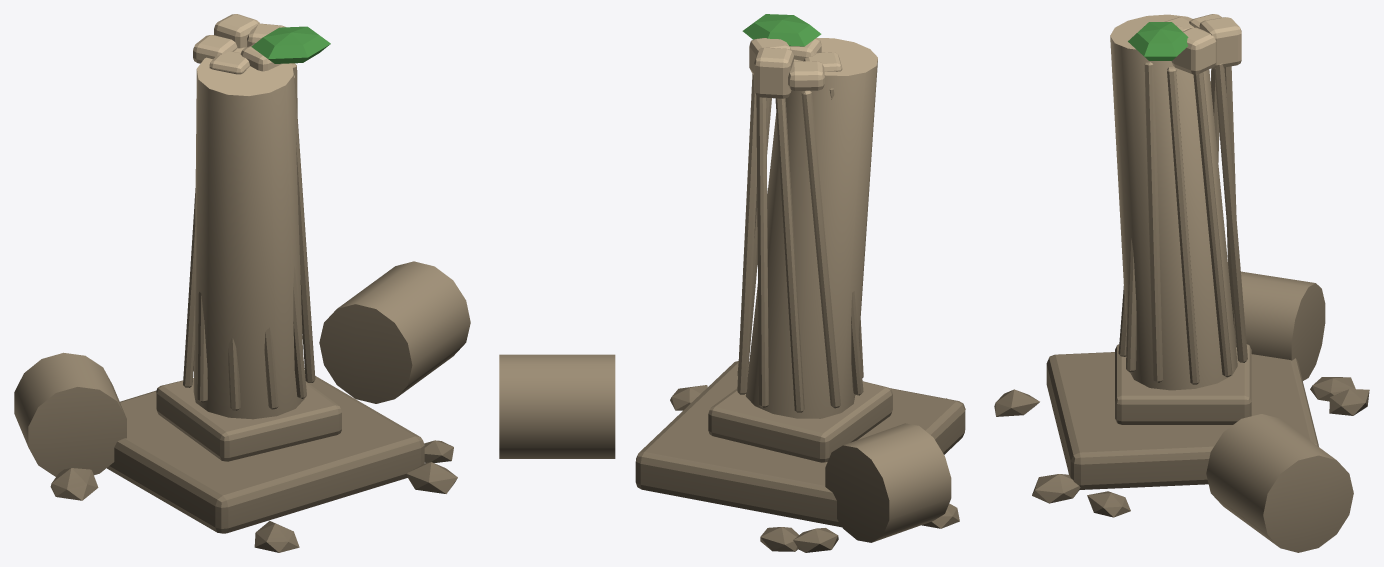
Rendered from ruin_pillar.glb.
The picture shows the model from 3 angles, left to right: view 1: azimuth 30°, elevation 25°; view 2: azimuth 150°, elevation 25°; view 3: azimuth 270°, elevation 25°; orthographic projection. The views are drawn at different scales.
Parts seen in each view (by area): view 1: t0_stone_warm, t0_moss; view 2: t0_stone_warm, t0_moss; view 3: t0_stone_warm, t0_moss.
Boxes of the visible parts, bbox=[...] form: t0_stone_warm: bbox=[14, 14, 470, 552]; t0_moss: bbox=[251, 26, 330, 63]; t0_stone_warm: bbox=[499, 38, 965, 552]; t0_moss: bbox=[742, 14, 821, 46]; t0_stone_warm: bbox=[994, 14, 1369, 552]; t0_moss: bbox=[1128, 22, 1188, 60].
Size of the model in its own units: 2.22 by 2.07 by 1.65.
